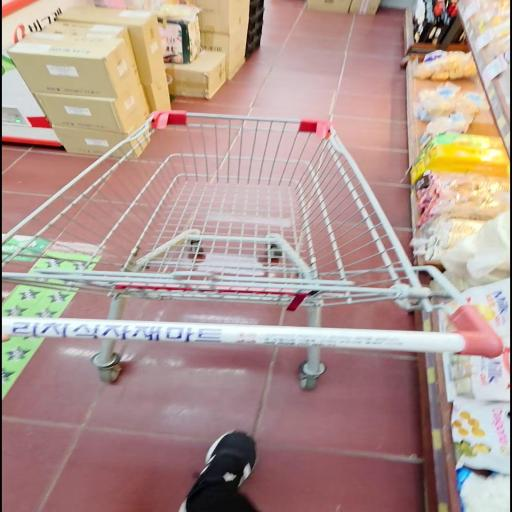empty_cart: (0, 105, 507, 392)
